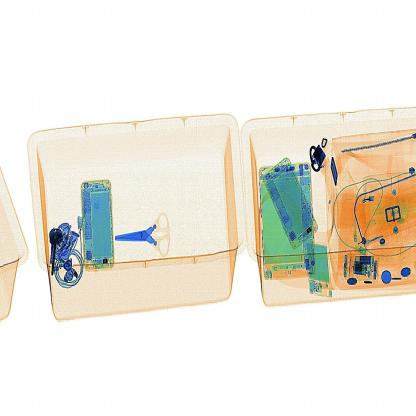gun: (112, 202, 178, 266)
